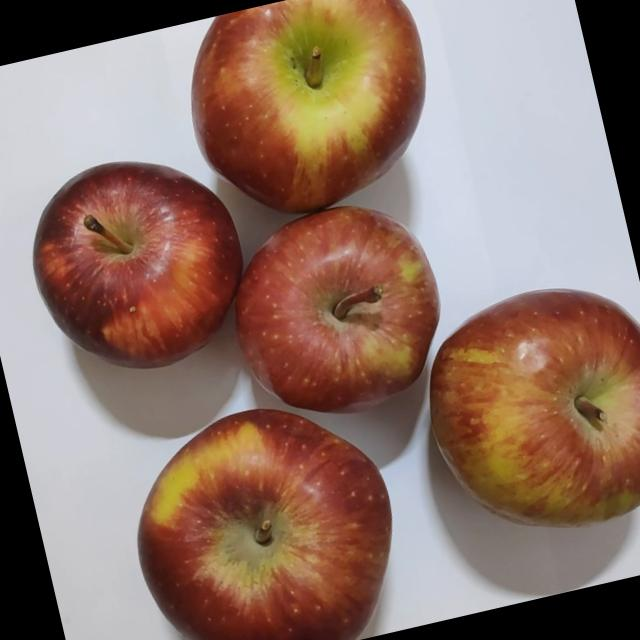apple: (103, 378, 421, 640), (392, 260, 640, 567), (156, 0, 457, 245), (1, 132, 268, 404), (199, 180, 469, 448)
